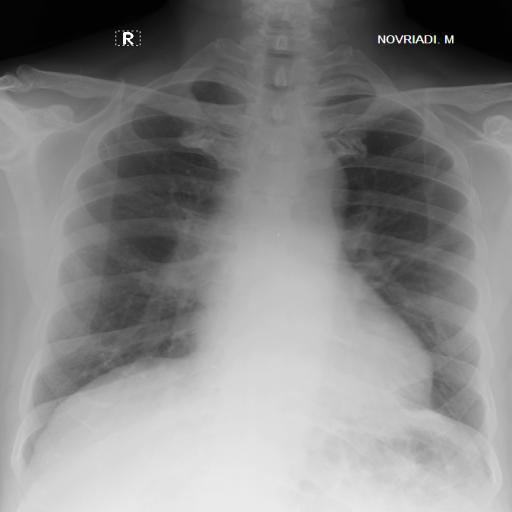kardiomegali: (12, 50, 506, 448)
